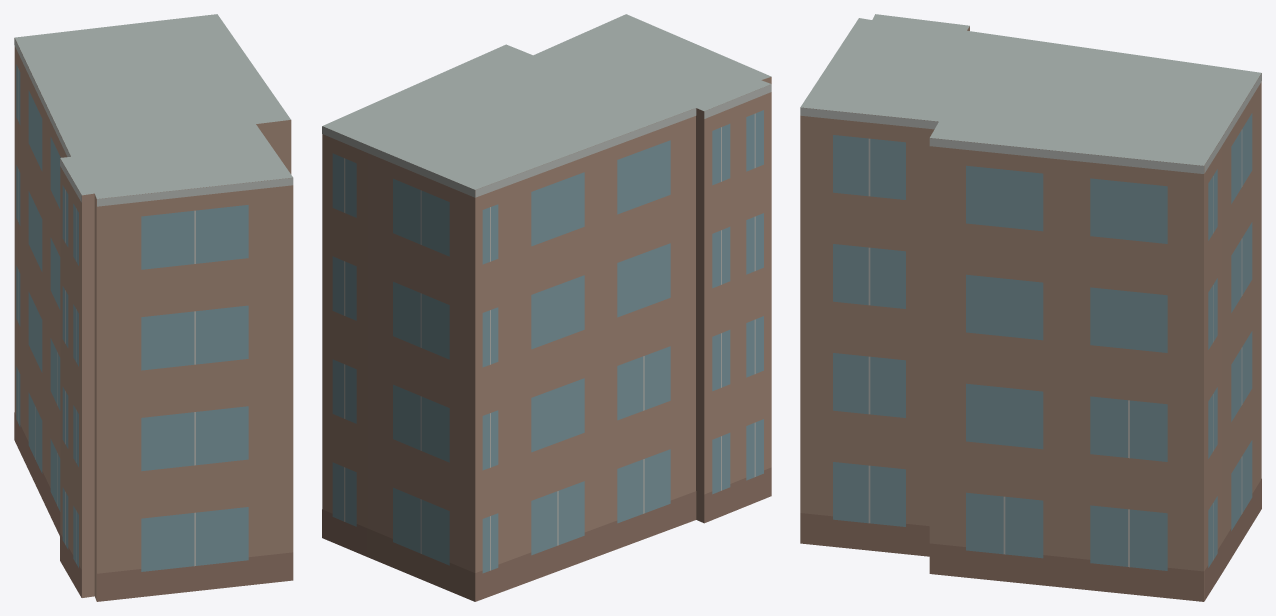
File: survey-upis-32511980.glb
3 renders of one model, left to right at view 1: azimuth 30°, elevation 25°; view 2: azimuth 150°, elevation 25°; view 3: azimuth 270°, elevation 25°, orthographic. The views are drawn at different scales.
Visible parts, largest first — view 1: survey-upis-32511980.tmp; view 2: survey-upis-32511980.tmp; view 3: survey-upis-32511980.tmp.
Part boxes in pixels (x1=…): survey-upis-32511980.tmp: x1=14, y1=14, x2=293, y2=601; survey-upis-32511980.tmp: x1=322, y1=14, x2=771, y2=601; survey-upis-32511980.tmp: x1=800, y1=14, x2=1261, y2=601.
Size of the model in its own units: 9.57 by 12.8 by 12.29.
